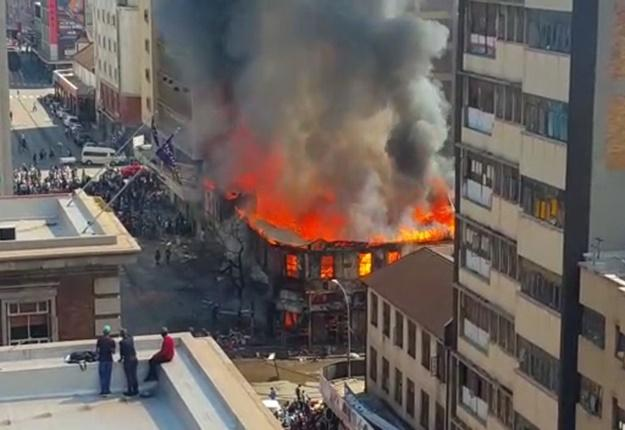Fire: (207, 164, 465, 278)
